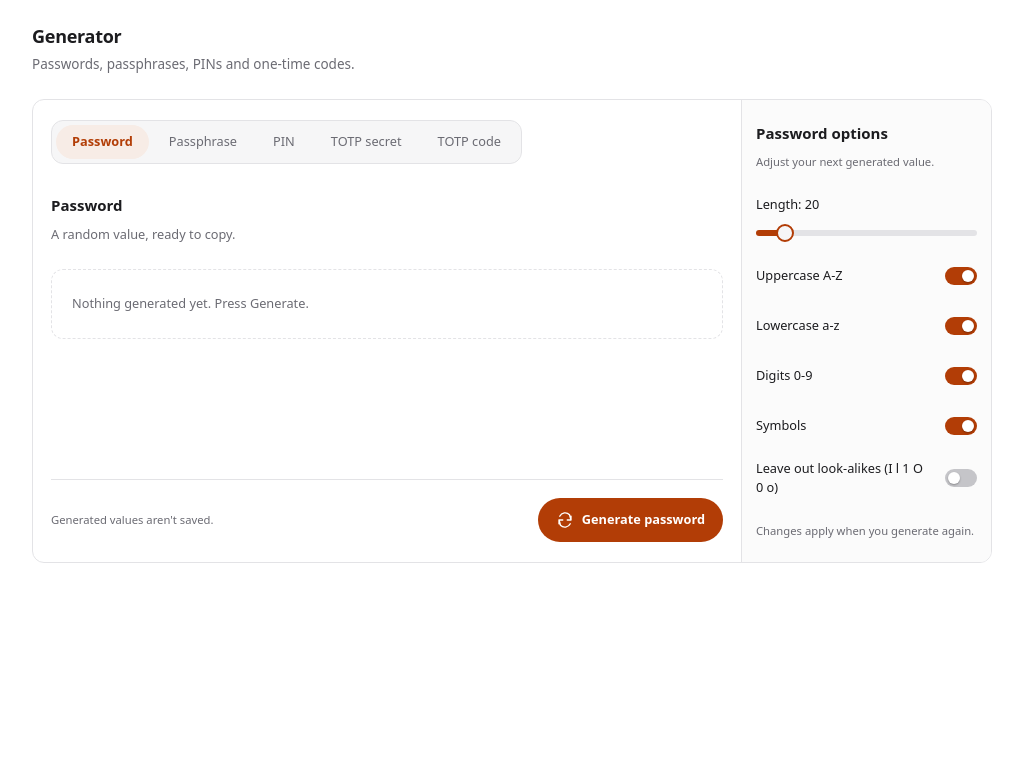
it: GeneratorView › hides a TOTP secret until Reveal is pressed
This screenshot has width=1024, height=768.
Step 1. Click the button "TOTP secret" → click(366, 142), box top-left (315, 125), bottom-right (418, 159)
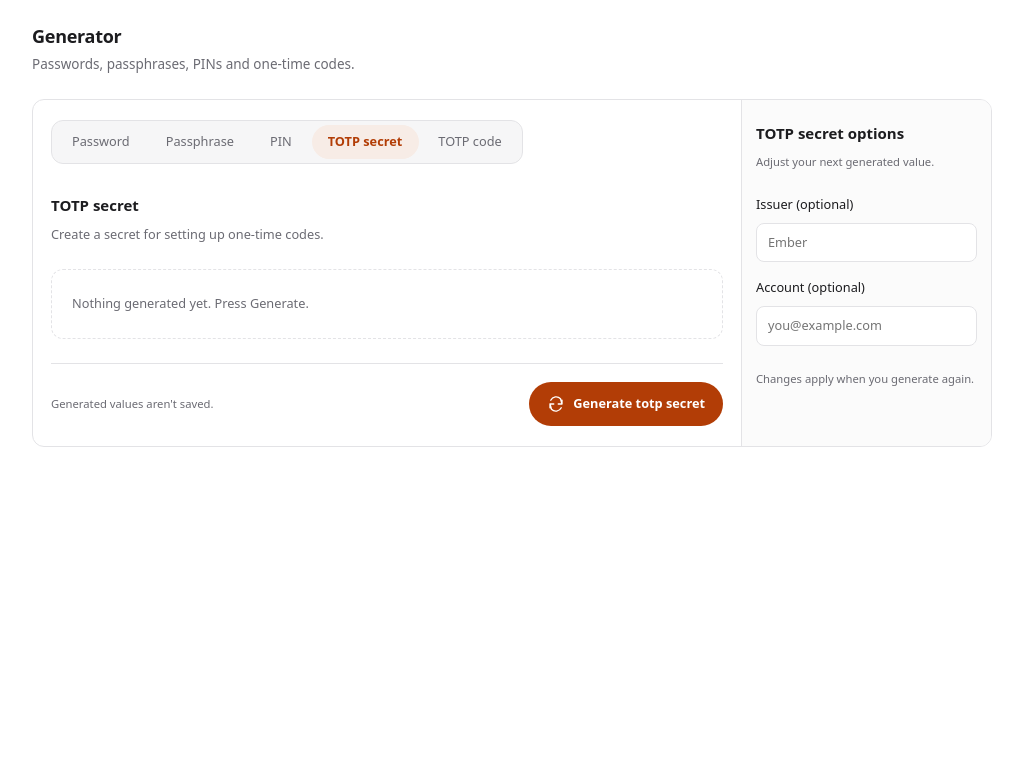
Step 2. Submit the form, box top-left (32, 99), bottom-right (992, 447)
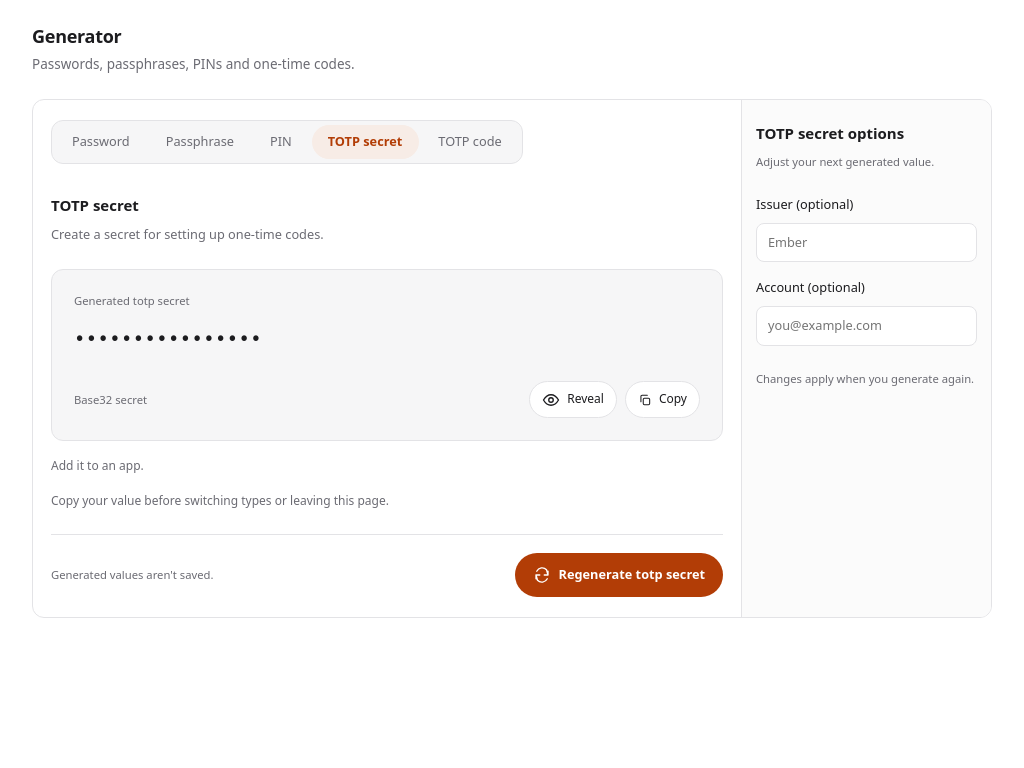
Expected: the element with test id "generated-value" does not show "JBSWY"
Step 3. Click the button "Reveal" → click(573, 400), box top-left (529, 381), bottom-right (617, 418)
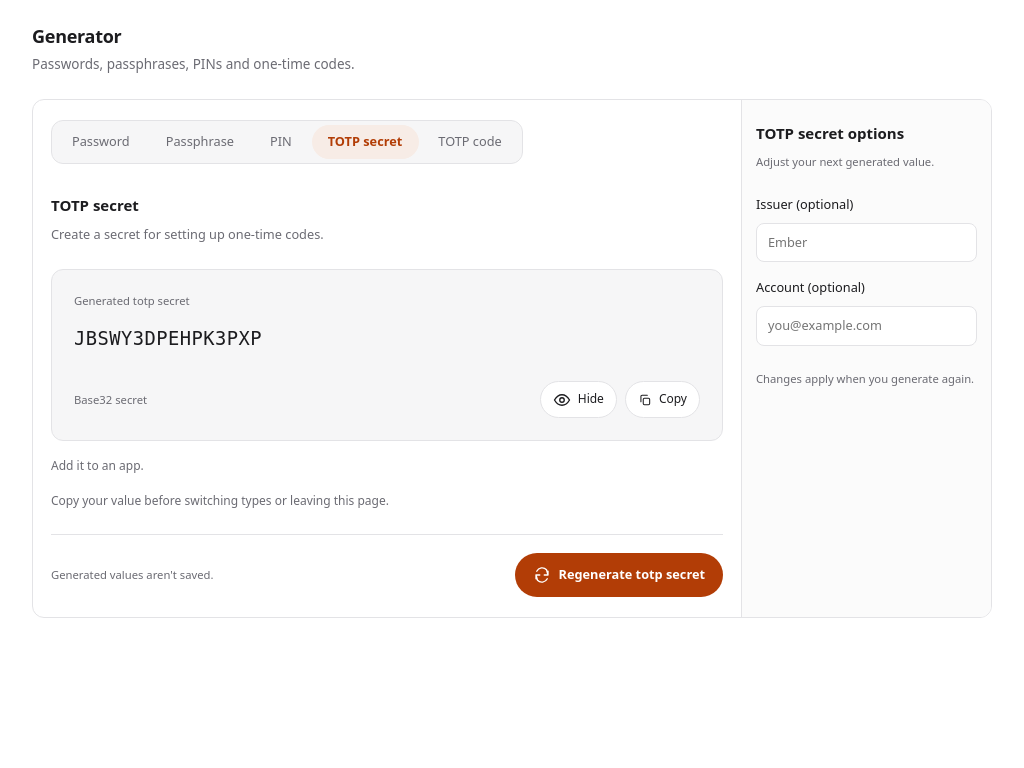
Expected: the text with test id "generated-value" reads "JBSWY3DPEHPK3PXP", top-left (74, 328), bottom-right (262, 349)
